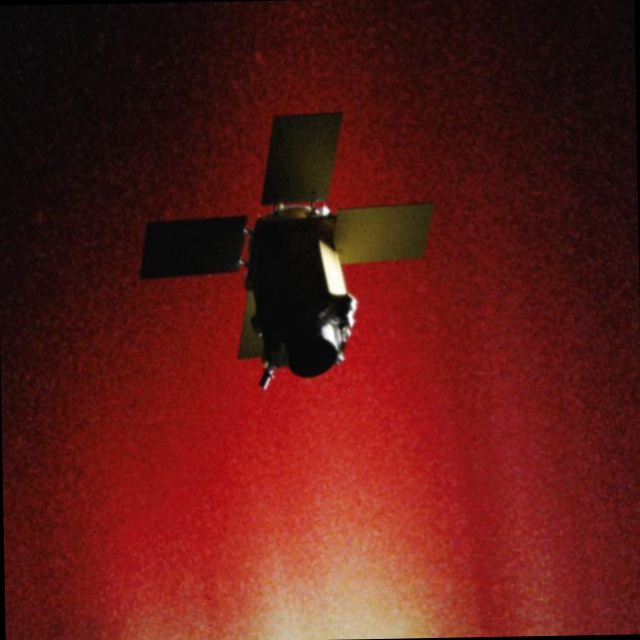satellite: (110, 91, 451, 402)
